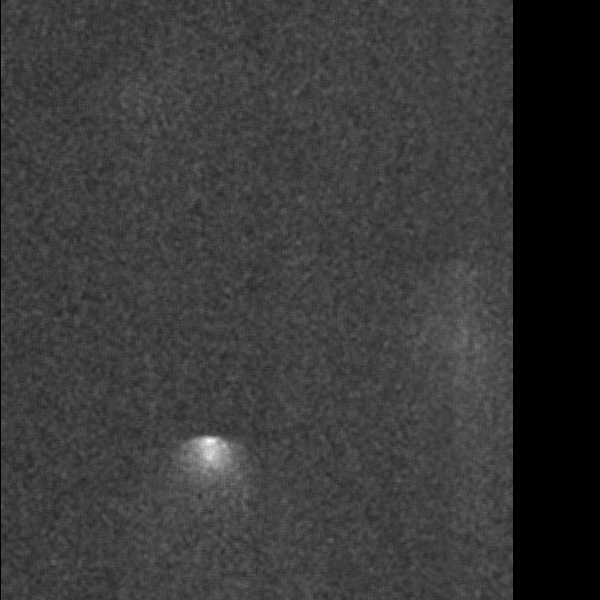spark: (187, 428, 232, 527), (455, 294, 471, 443)
